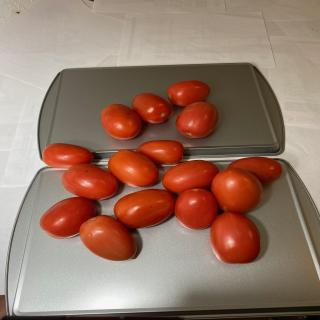Chilli: (39, 142, 282, 264)
Tomato: (210, 211, 261, 264), (79, 215, 137, 261), (114, 188, 175, 228), (40, 197, 96, 239), (211, 168, 263, 213), (61, 163, 118, 200), (162, 160, 219, 194), (108, 150, 159, 188), (174, 188, 218, 230), (227, 156, 283, 184), (100, 103, 142, 140), (176, 102, 218, 138), (42, 143, 94, 168), (132, 93, 172, 124), (137, 140, 184, 165), (167, 80, 210, 106)
